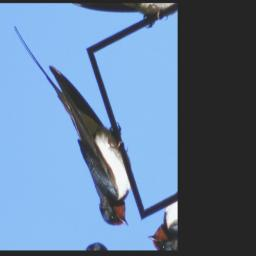Swallow: (0, 23, 164, 236)
